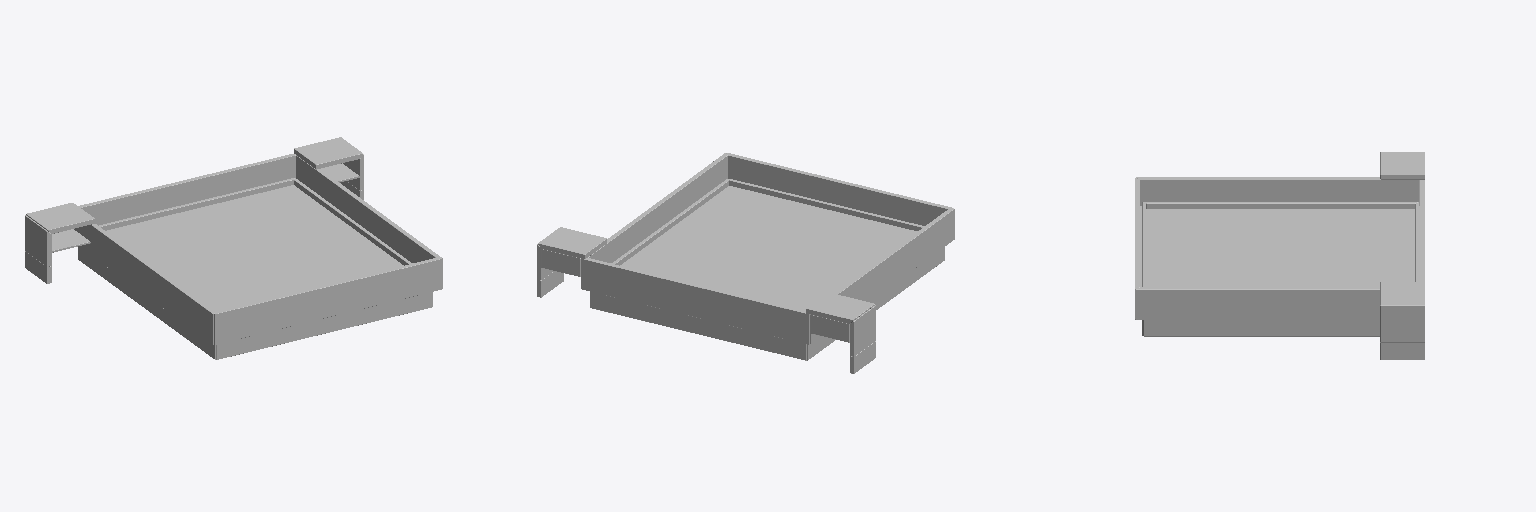
File: Cama.obj
3 views of the same model, side by side, from view 1: azimuth 30°, elevation 25°; view 2: azimuth 150°, elevation 25°; view 3: azimuth 270°, elevation 25° (orthographic).
Parts seen in each view (by area): view 1: base1; view 2: base1; view 3: base1.
Part boxes in pixels (x1,y1,x2,y2): base1: (25,137,442,359); base1: (537,153,954,373); base1: (1135,152,1424,359).
Bounding box in the file's own units: 271 × 44.8 × 215.